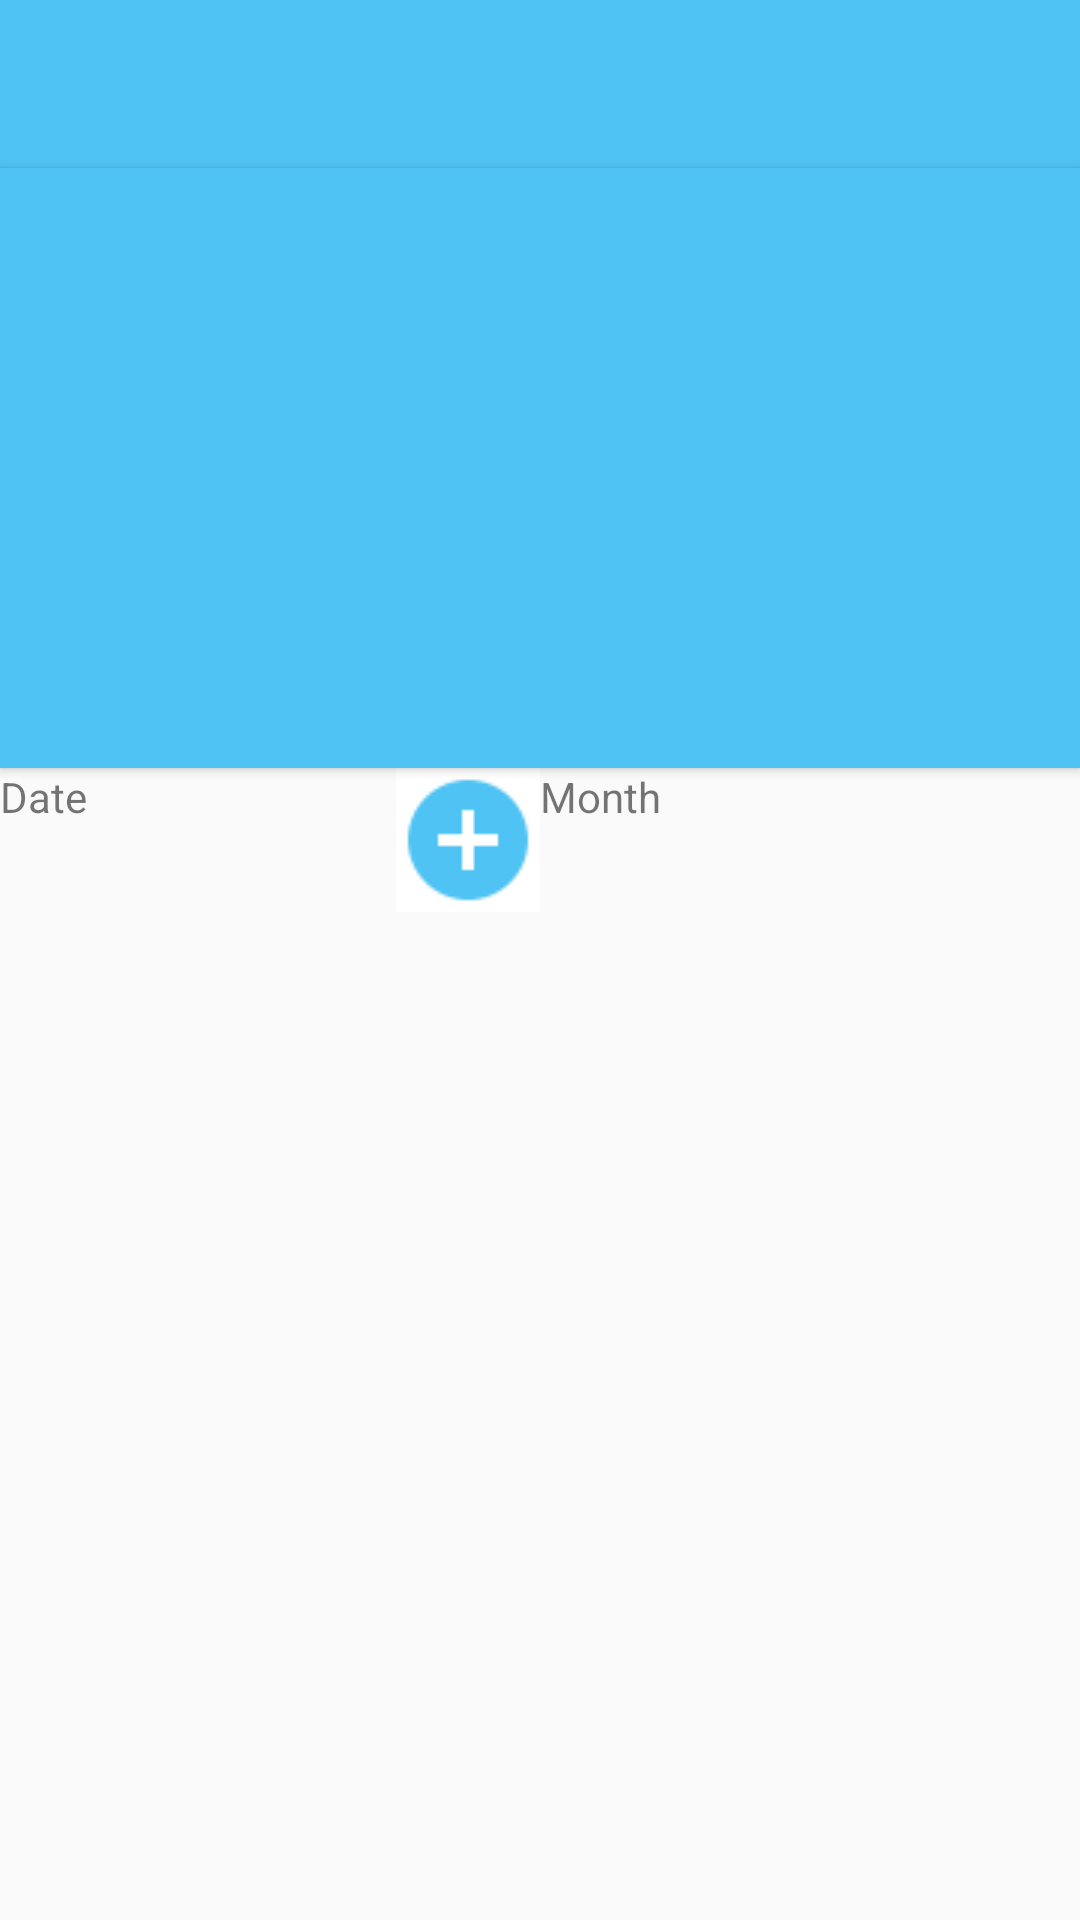

Screen size 1080 x 1920. Icon name, then its box in pixels as (x1=x1, y1=y1, x2=x2, y2=y2):
plus circle: (x1=407, y1=779, x2=529, y2=901)
